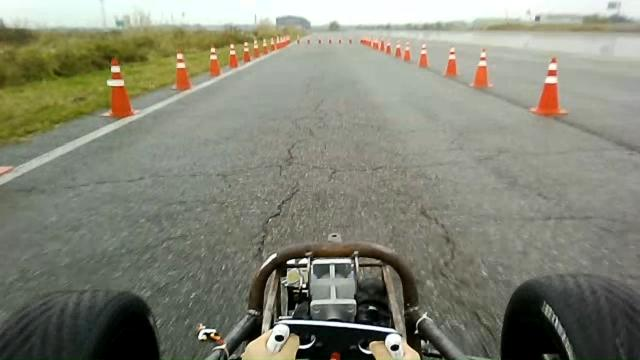red cone: (99, 56, 139, 118), (530, 56, 568, 116), (469, 48, 493, 88), (171, 50, 191, 90), (442, 46, 458, 78), (208, 47, 221, 76), (418, 43, 429, 68), (228, 43, 238, 68), (402, 40, 412, 62), (243, 41, 251, 62), (394, 40, 402, 58), (253, 38, 260, 58), (262, 38, 269, 54), (385, 42, 392, 56)
